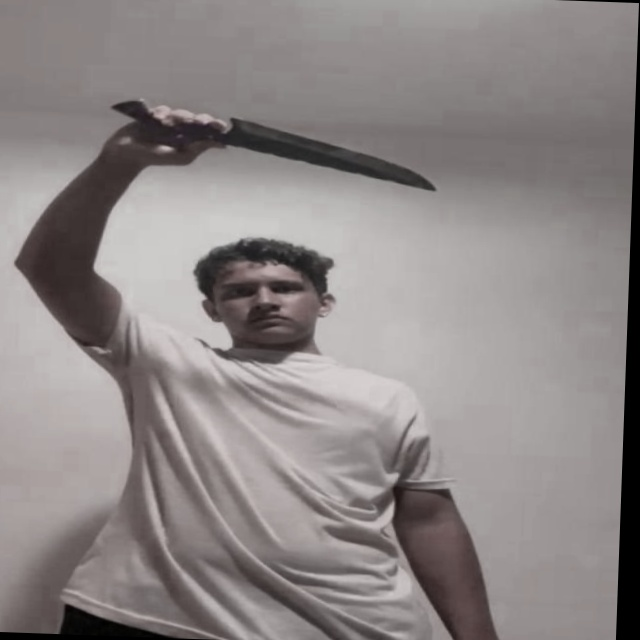Sharp-Object: (225, 115, 440, 186)
